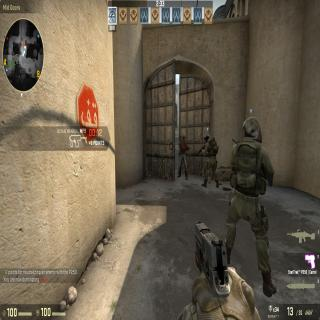CT-Body: (228, 111, 271, 293), (198, 131, 220, 189)
CT-Head: (242, 113, 263, 150), (203, 131, 210, 143)
T-Body: (177, 133, 188, 177)
T-Head: (182, 133, 186, 142)
